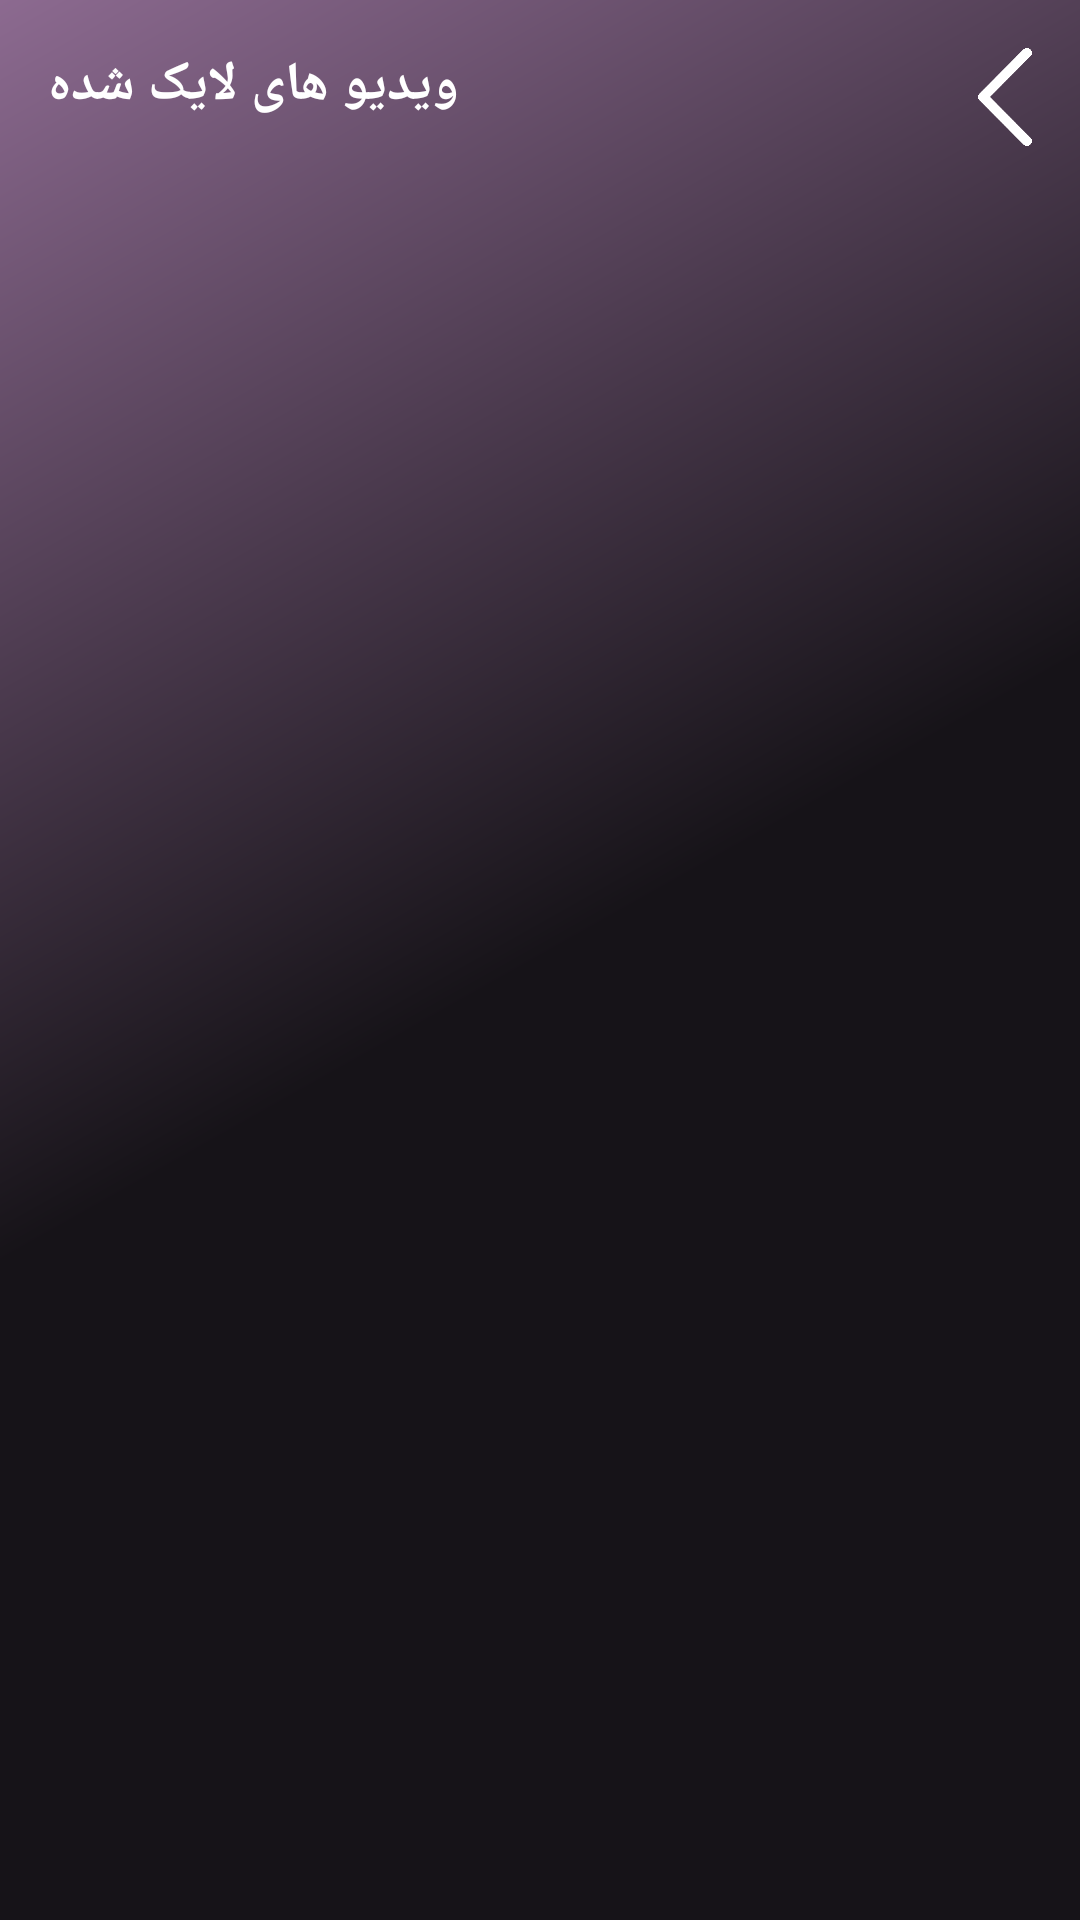

Icon click points for this 1080px×1920px phone screenshot, format point (x, y):
back: point (1005, 97)
